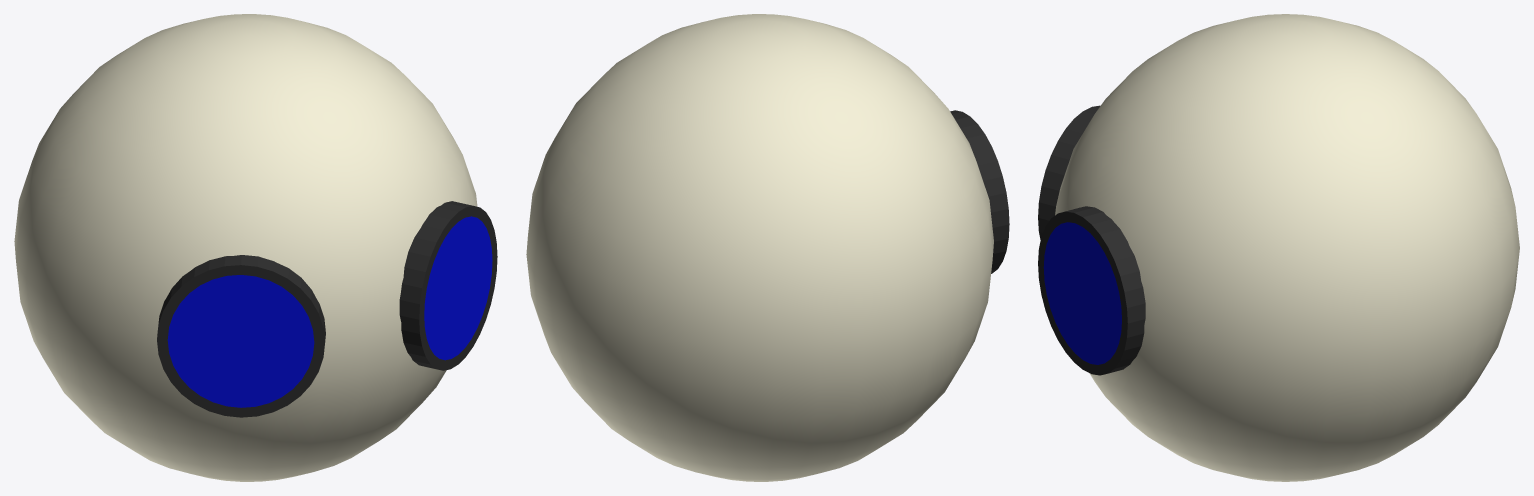
File: RobiHead.glb
3 views of the same model, side by side, from view 1: azimuth 30°, elevation 25°; view 2: azimuth 150°, elevation 25°; view 3: azimuth 270°, elevation 25° (orthographic).
Parts seen in each view (by area): view 1: HeAD_001.004; view 2: HeAD_001.004; view 3: HeAD_001.004.
Boxes of the visible parts, x1,y1,x2,y2 form: HeAD_001.004: (14, 14, 497, 481); HeAD_001.004: (526, 14, 1009, 481); HeAD_001.004: (1038, 14, 1519, 481).
Bounding box in the file's own units: 0.1246 × 0.1246 × 0.1282.
